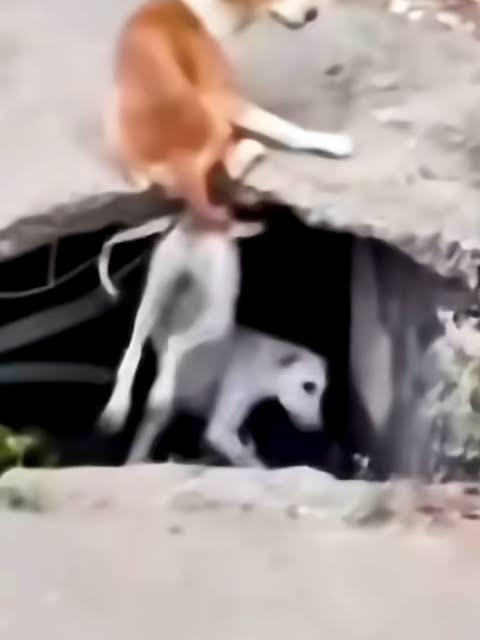adult_dog: (104, 0, 355, 239)
puppy-dog: (95, 215, 332, 469)
